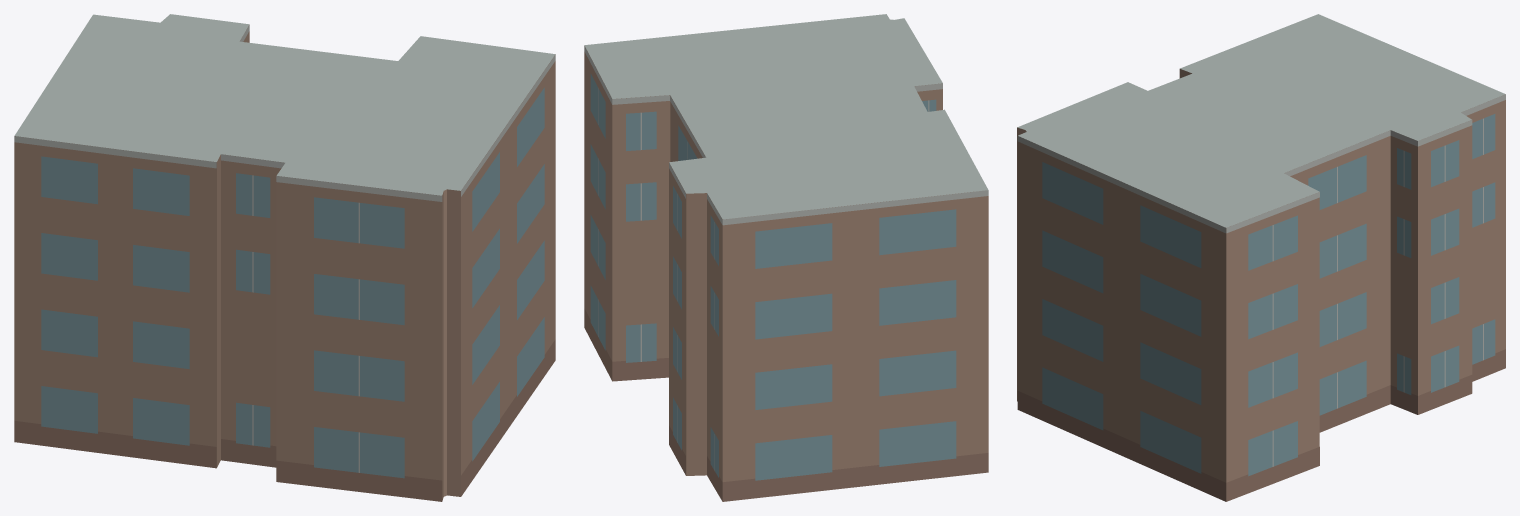
Rendered from survey-upis-32770708.glb.
3 renders of one model, left to right at view 1: azimuth 30°, elevation 25°; view 2: azimuth 150°, elevation 25°; view 3: azimuth 270°, elevation 25°, orthographic. The views are drawn at different scales.
Parts seen in each view (by area): view 1: survey-upis-32770708.tmp; view 2: survey-upis-32770708.tmp; view 3: survey-upis-32770708.tmp.
Part boxes in pixels (left/top/right/bottom): survey-upis-32770708.tmp: left=14, top=14, right=555, bottom=501; survey-upis-32770708.tmp: left=584, top=14, right=988, bottom=501; survey-upis-32770708.tmp: left=1017, top=14, right=1505, bottom=501.
Bounding box in the file's own units: 19.85 × 11.85 × 19.16.
